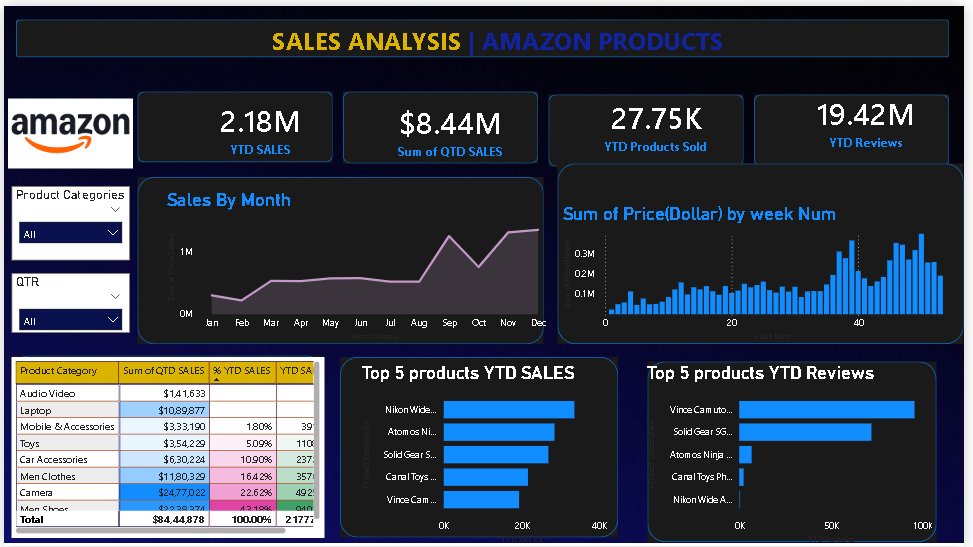

The page's visual inventory and layout, read from the dashboard file:
{"tool":"powerbi","page":{"name":"Page 1","canvas":[1280,720],"ordinal":0},"visuals":[{"type":"shape","box":[450.6,113.9,260.2,96],"z":0,"group":"g1"},{"type":"shape","box":[16.3,17.9,1244.3,50.4],"z":0},{"type":"shape","box":[177.3,113.9,260.2,94.3],"z":1000,"group":"g1"},{"type":"textbox","box":[35.8,17.9,1244.3,66.7],"z":1000},{"type":"shape","box":[724.9,117.2,260.2,96],"z":2000,"group":"g1"},{"type":"group","id":"g1","title":"Group 1","box":[177.3,113.9,1081.7,99.2],"z":2000},{"type":"shape","box":[998.6,117.2,260.2,96],"z":3000,"group":"g1"},{"type":"card","fields":{"Values":["Amazon_Data.YTD SALES"]},"box":[211.5,112.2,260.2,100.8],"z":3000},{"type":"card","fields":{"Values":["Sum(Amazon_Data.QTD SALES)"]},"box":[471.7,113.9,247.2,100.8],"z":4000},{"type":"card","fields":{"Values":["Amazon_Data.YTD Products Sold"]},"box":[746.6,109,247.2,100.8],"z":5000},{"type":"card","fields":{"Values":["Amazon_Data.YTD Reviews"]},"box":[1026.3,102.5,247.2,100.8],"z":6000},{"type":"shape","box":[177.3,227.7,541.6,222.8],"z":7000},{"type":"areaChart","title":"Sales By Month","fields":{"Category":["Date Table.Month Name"],"Y":["Sum(Amazon_Data.Price(Dollar))"]},"box":[211.5,244,520.5,206.6],"z":8000},{"type":"shape","box":[738.5,209.8,541.6,240.7],"z":9000},{"type":"clusteredColumnChart","fields":{"Category":["Date Table.week Num"],"Y":["Sum(Amazon_Data.Price(Dollar))"]},"box":[740.1,261.9,520.5,188.7],"z":10000},{"type":"shape","box":[9.8,465.2,416.4,240.7],"z":11000},{"type":"pivotTable","fields":{"Rows":["Amazon_Data.Product Category"],"Values":["Sum(Amazon_Data.QTD SALES)","Amazon_Data.YTD SALES","Amazon_Data.YTD SALES1"]},"box":[9.8,468.4,416.4,240.7],"z":12000},{"type":"shape","box":[448.9,468.4,370.9,240.7],"z":13000},{"type":"clusteredBarChart","title":"Top 5 products YTD SALES","fields":{"Category":["Amazon_Data.Product Description"],"Y":["Amazon_Data.YTD SALES"]},"box":[471.7,473.3,336.7,247.2],"z":14000},{"type":"shape","box":[857.2,473.3,385.5,240.7],"z":15000},{"type":"clusteredBarChart","title":"Top 5 products YTD Reviews","fields":{"Category":["Amazon_Data.Product Description"],"Y":["Amazon_Data.YTD Reviews"]},"box":[852.3,473.3,390.4,247.2],"z":16000},{"type":"slicer","title":"Product Categories","fields":{"Values":["Amazon_Data.Product Category"]},"box":[9.8,240.7,157.8,99.2],"z":17000},{"type":"slicer","title":"QTR","fields":{"Values":["Date Table.QTR"]},"box":[9.8,356.2,157.8,79.7],"z":18000},{"type":"image","box":[0,78.1,177.3,183.8],"z":19000}]}

Visuals, with their boxes in screenshot pixels (x1, y1, x2, y2), scaled from the page's 1280x720 canvas onto the 973x547 screenshot:
shape: (343, 87, 540, 159)
shape: (12, 14, 958, 52)
shape: (135, 87, 333, 158)
textbox: (27, 14, 972, 64)
shape: (551, 89, 749, 162)
"Group 1" group: (135, 87, 957, 162)
shape: (759, 89, 957, 162)
card - Amazon_Data.YTD SALES: (161, 85, 359, 162)
card - Sum(Amazon_Data.QTD SALES): (359, 87, 546, 163)
card - Amazon_Data.YTD Products Sold: (568, 83, 755, 159)
card - Amazon_Data.YTD Reviews: (780, 78, 968, 154)
shape: (135, 173, 546, 342)
"Sales By Month" areaChart: (161, 185, 556, 342)
shape: (561, 159, 972, 342)
clusteredColumnChart - Date Table.week Num x Sum(Amazon_Data.Price(Dollar)): (563, 199, 958, 342)
shape: (7, 353, 324, 536)
pivotTable - Amazon_Data.Product Category x Sum(Amazon_Data.QTD SALES): (7, 356, 324, 539)
shape: (341, 356, 623, 539)
"Top 5 products YTD SALES" clusteredBarChart: (359, 360, 615, 546)
shape: (652, 360, 945, 542)
"Top 5 products YTD Reviews" clusteredBarChart: (648, 360, 945, 546)
"Product Categories" slicer: (7, 183, 127, 258)
"QTR" slicer: (7, 271, 127, 331)
image: (0, 59, 135, 199)
